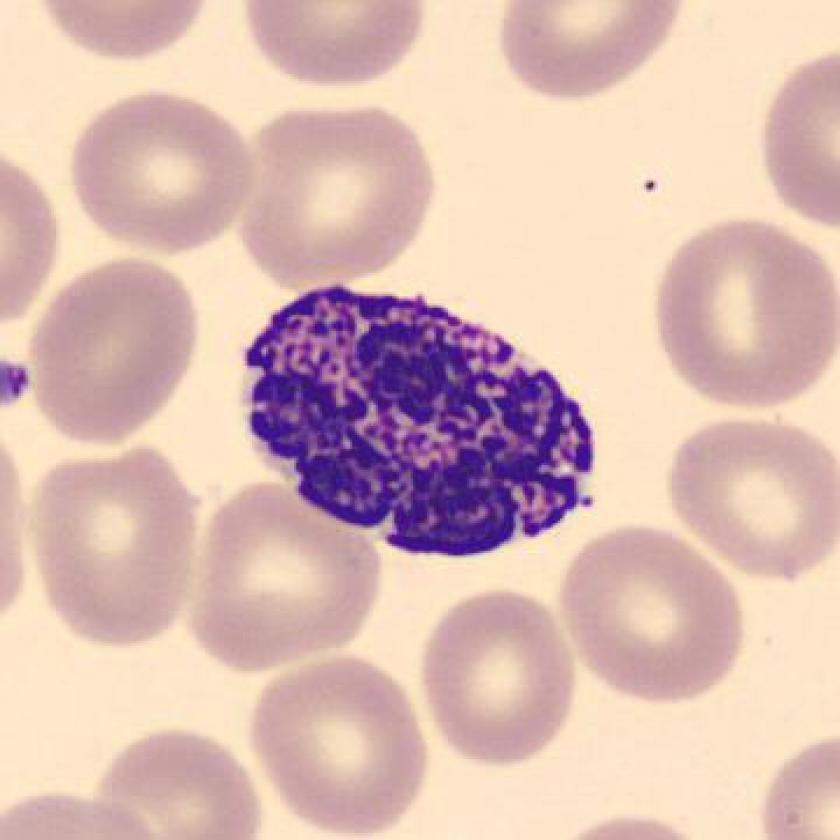basophil: (234, 276, 624, 568)
